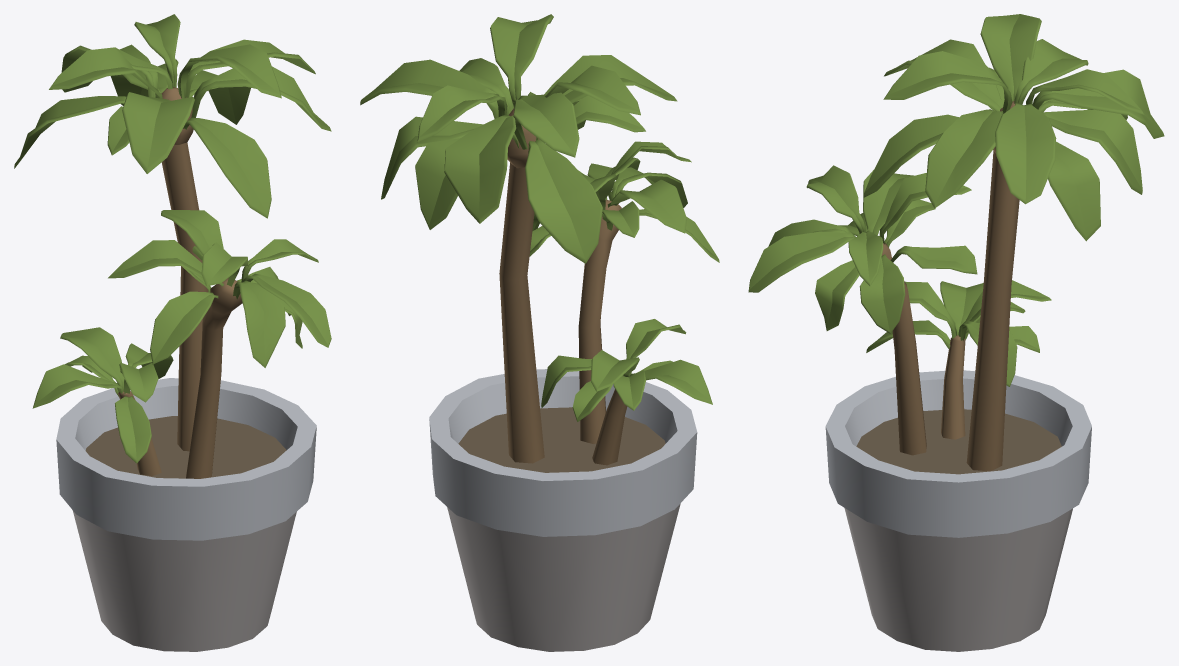
The model's file is SM_Prop_Plant_02b.obj.
The picture shows the model from 3 angles, left to right: view 1: azimuth 30°, elevation 25°; view 2: azimuth 150°, elevation 25°; view 3: azimuth 270°, elevation 25°; orthographic projection. The views are drawn at different scales.
Parts seen in each view (by area): view 1: SM_Prop_Plant_02b_Mat_SwatchOverlay_PolygonOffice_01_Inst; view 2: SM_Prop_Plant_02b_Mat_SwatchOverlay_PolygonOffice_01_Inst; view 3: SM_Prop_Plant_02b_Mat_SwatchOverlay_PolygonOffice_01_Inst.
Part boxes in pixels (x1,y1,x2,y2): SM_Prop_Plant_02b_Mat_SwatchOverlay_PolygonOffice_01_Inst: (14, 14, 331, 651); SM_Prop_Plant_02b_Mat_SwatchOverlay_PolygonOffice_01_Inst: (360, 14, 719, 651); SM_Prop_Plant_02b_Mat_SwatchOverlay_PolygonOffice_01_Inst: (748, 14, 1164, 651).
Size of the model in its own units: 0.8351 by 1.43 by 0.9388.
1 material, 1 textured.
